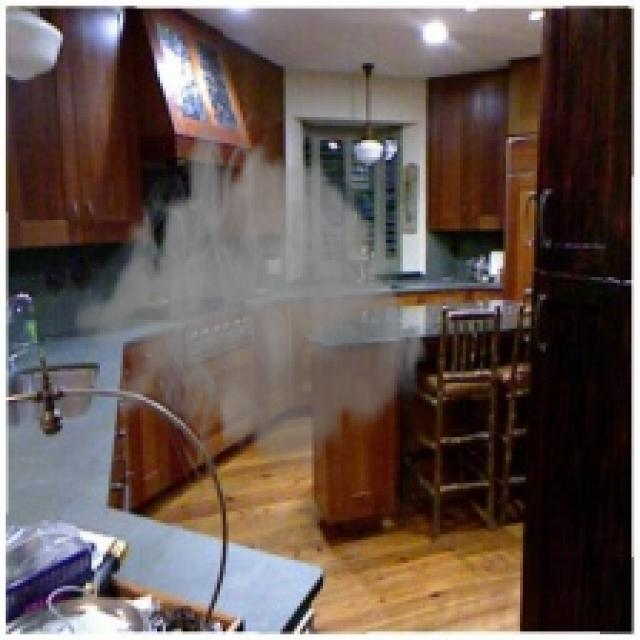smoke: (71, 106, 428, 511)
